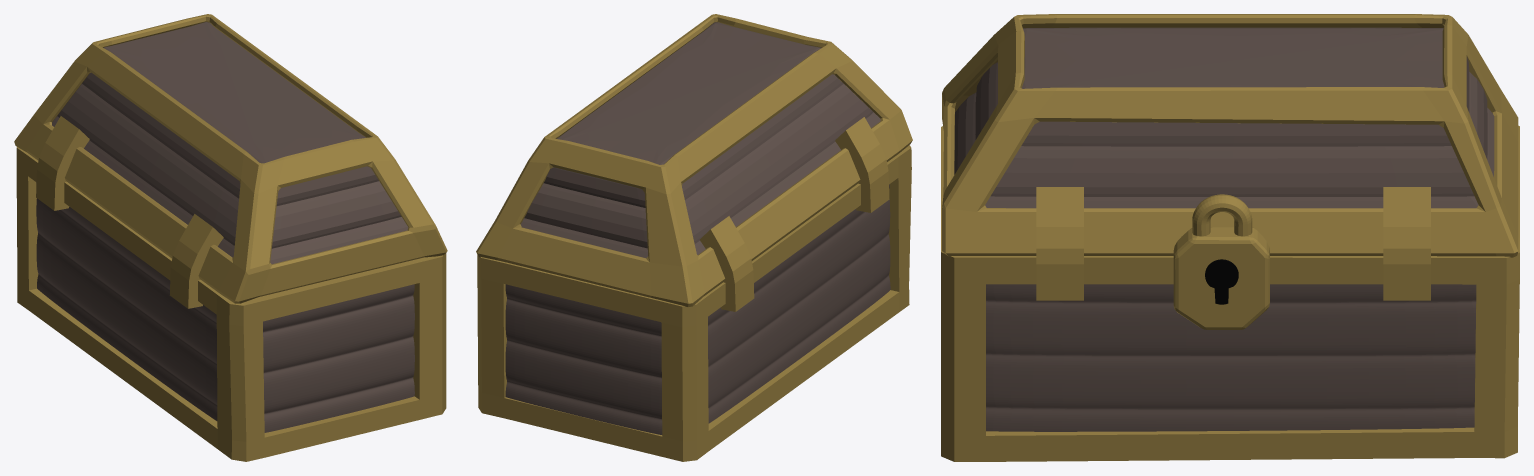
File: bau.fbx
The picture shows the model from 3 angles, left to right: view 1: azimuth 30°, elevation 25°; view 2: azimuth 150°, elevation 25°; view 3: azimuth 270°, elevation 25°; orthographic projection. The views are drawn at different scales.
Parts seen in each view (by area): view 1: Cube.003; view 2: Cube.003; view 3: Cube.003.
Part boxes in pixels (left/top/right/bottom): Cube.003: left=14, top=14, right=447, bottom=461; Cube.003: left=476, top=14, right=912, bottom=461; Cube.003: left=941, top=14, right=1519, bottom=461.
Size of the model in its own units: 2.33 by 2.5 by 3.73.
